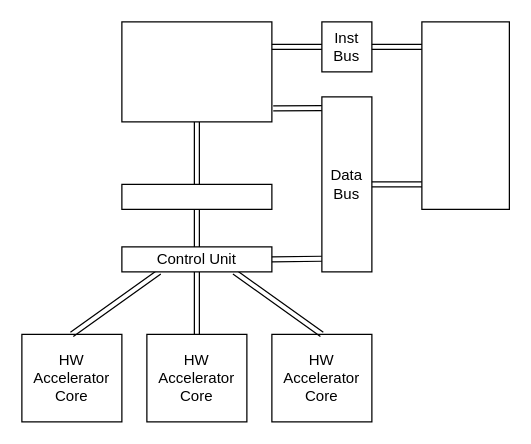
This 531x444 diagram has some shape labels left out. Each missing label, with the centre of its shape:
"AXI Bus" goes at (196,196).
"Dual-Port BRAM" goes at (465,115).
"MicroBlaze Core" goes at (196,71).
